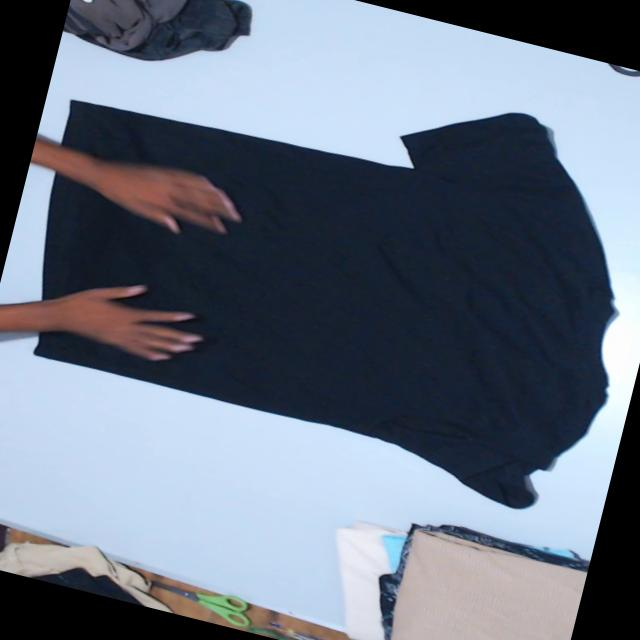new-garment: (35, 100, 613, 507)
